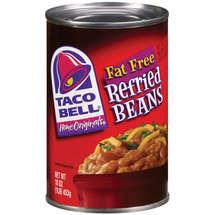Taco_Bell: (48, 44, 105, 120)
